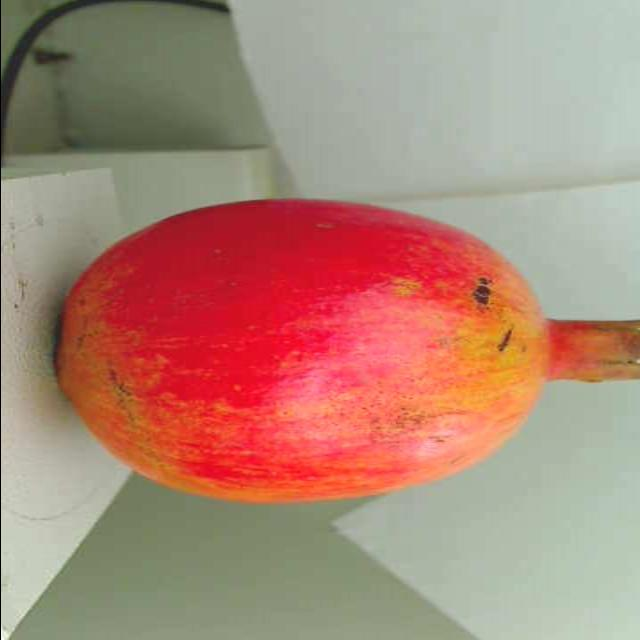pomegranate: (41, 188, 640, 520)
